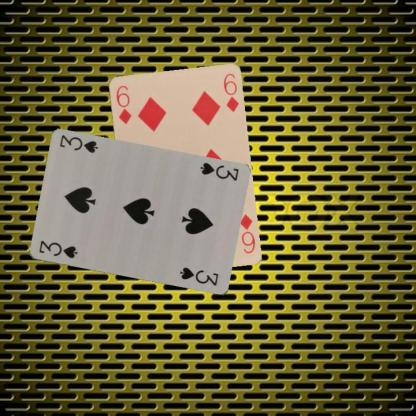3s: (197, 160, 240, 183), (36, 237, 78, 260)
6d: (236, 211, 256, 255), (113, 82, 133, 124)
